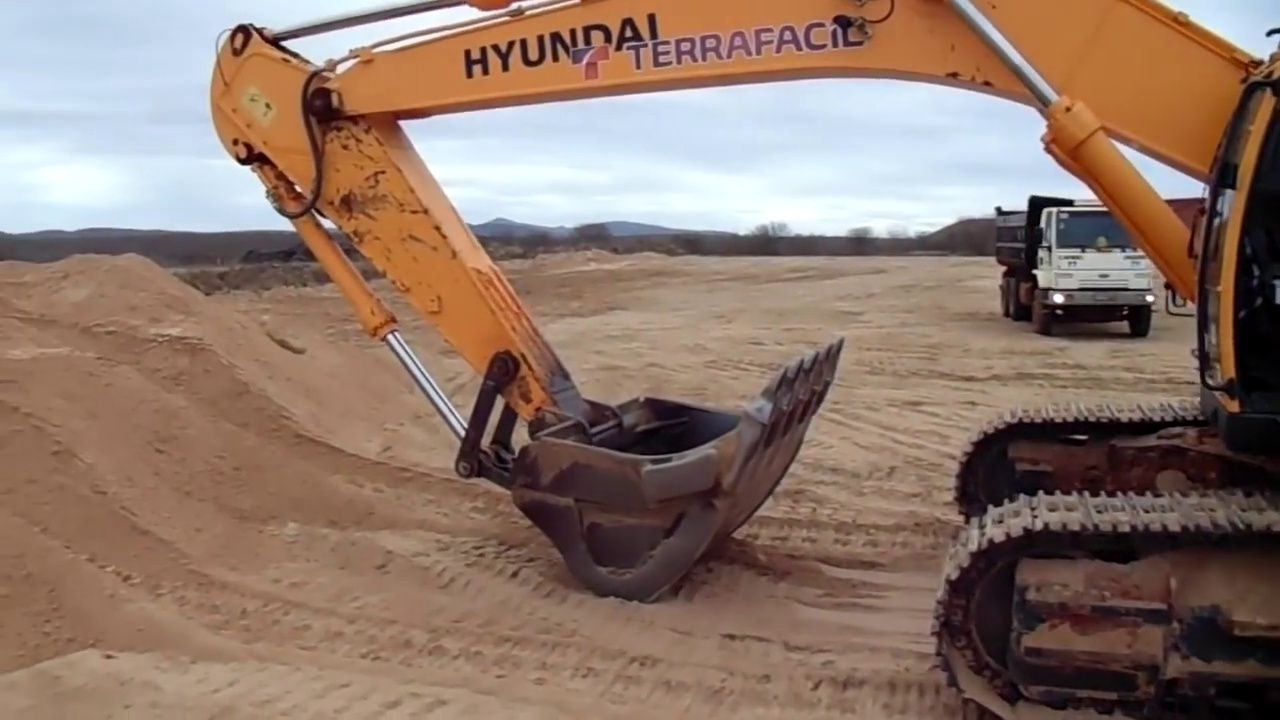excavator: (206, 2, 1277, 720)
truck: (989, 195, 1162, 341)
